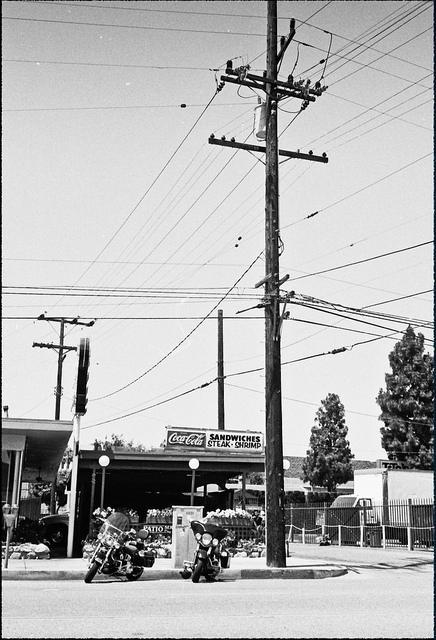motorcycle: (85, 513, 156, 583), (182, 520, 231, 582)
truck: (331, 468, 436, 506)
